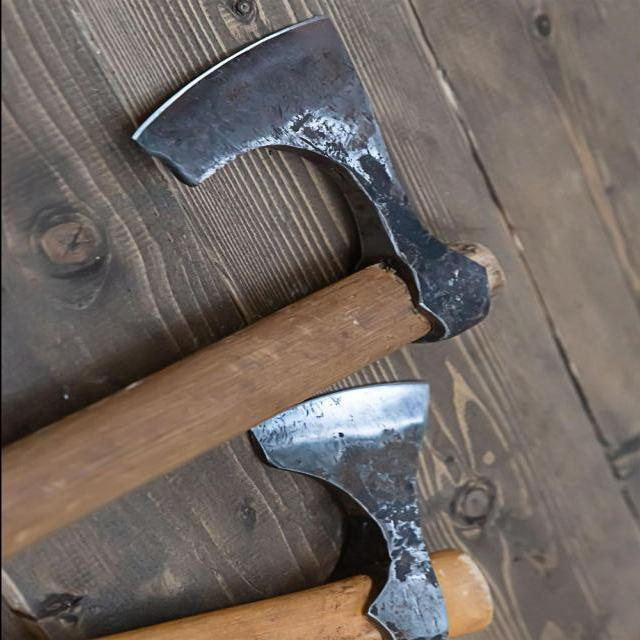axe: (1, 14, 502, 560), (40, 380, 491, 640)
